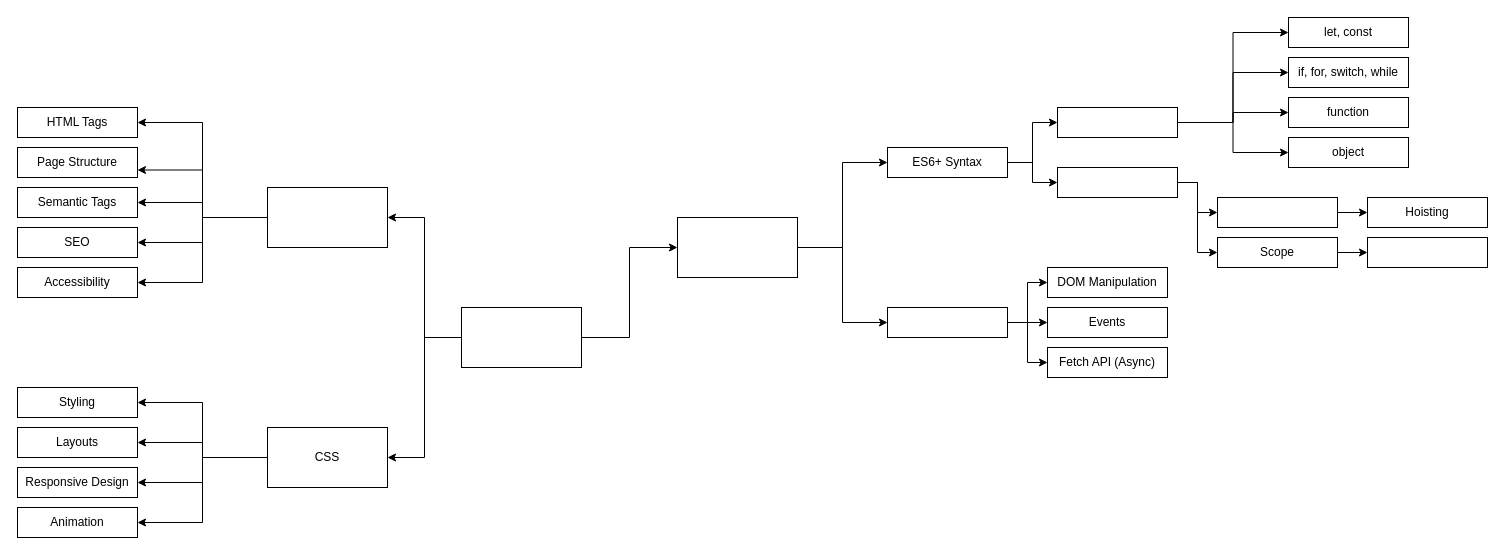
Image size: 1505x555. Some labels were removed from this diagram. The shapes that lost their labels are listed below. From the top down, each one's box as (x1, y1, x2, y2) in pixels, then its label:
(1056, 106, 1178, 138): Basic
(1056, 166, 1178, 198): Advanced
(266, 186, 388, 248): HTML
(1216, 196, 1338, 228): Prototype
(676, 216, 798, 278): JavaScript
(1366, 236, 1488, 268): Closure
(460, 306, 582, 368): Front-end
(886, 306, 1008, 338): Browser APIs
